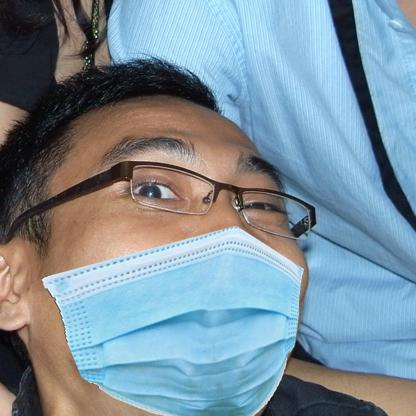mask: (43, 231, 304, 415)
